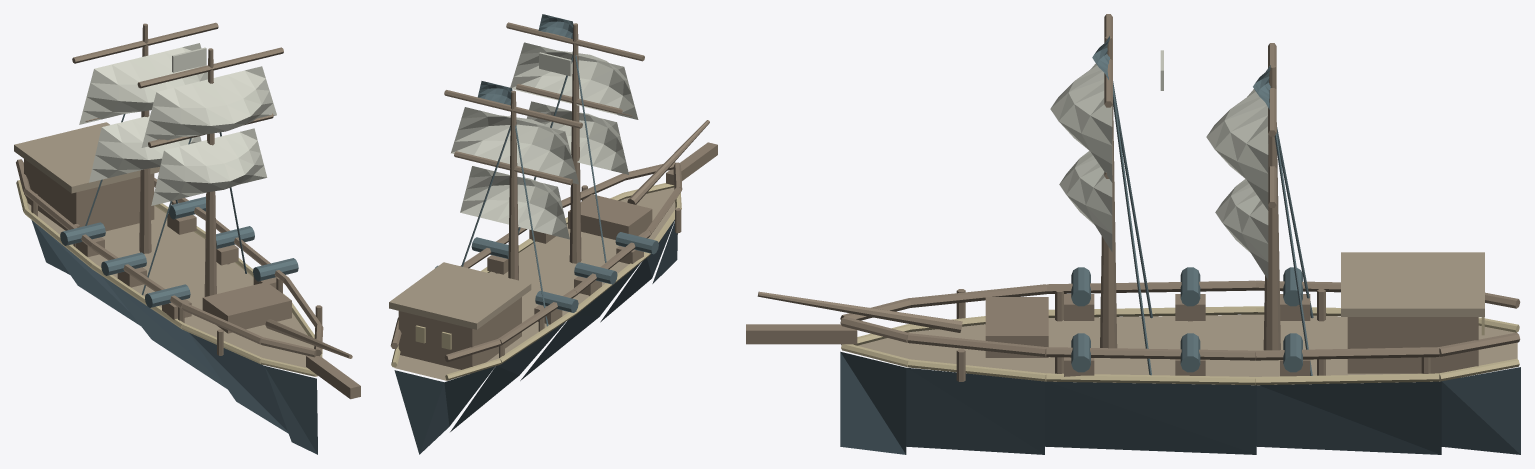
The model's file is npc_scout_01.glb.
3 renders of one model, left to right at view 1: azimuth 30°, elevation 25°; view 2: azimuth 150°, elevation 25°; view 3: azimuth 270°, elevation 25°, orthographic. The views are drawn at different scales.
Parts seen in each view (by area): view 1: M297_npc_scout_01_Complete_Ship; view 2: M297_npc_scout_01_Complete_Ship; view 3: M297_npc_scout_01_Complete_Ship.
Boxes of the visible parts, x1,y1,x2,y2 form: M297_npc_scout_01_Complete_Ship: (14,22,360,454); M297_npc_scout_01_Complete_Ship: (389,14,717,454); M297_npc_scout_01_Complete_Ship: (746,14,1520,454).
Size of the model in its own units: 2.24 by 4.94 by 8.23.
